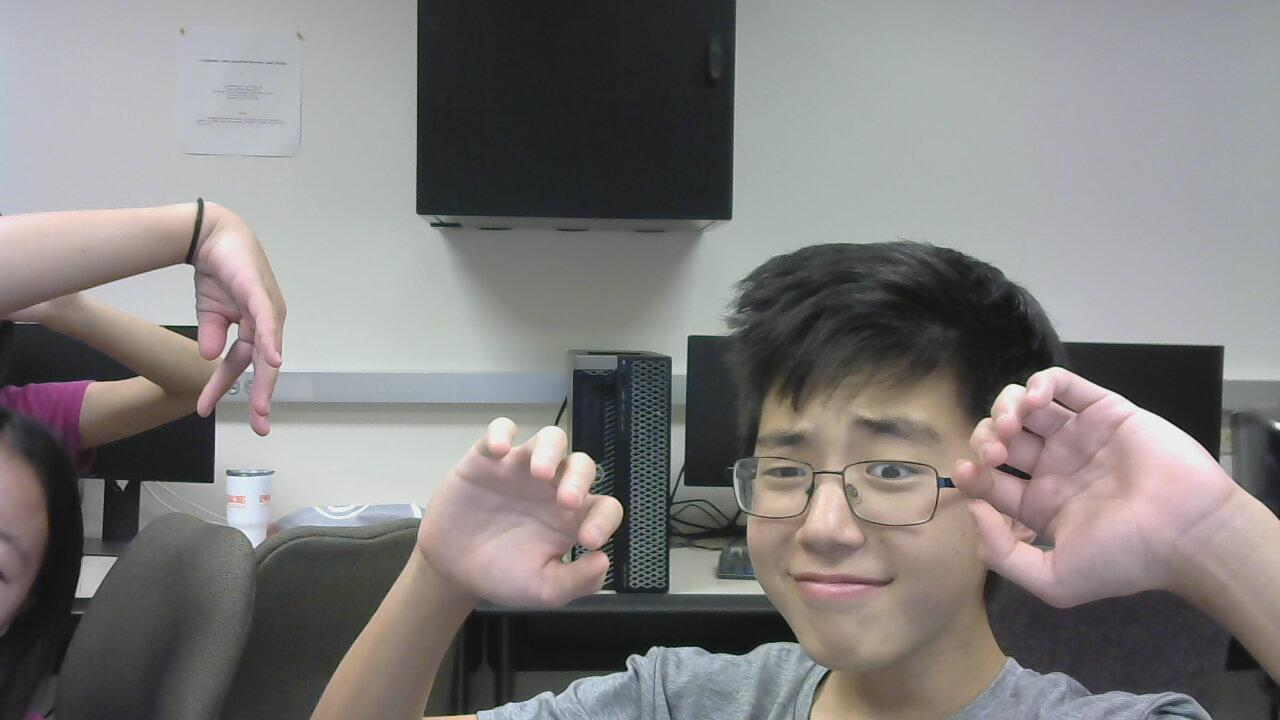hands: (932, 372, 1221, 603), (411, 408, 635, 619), (157, 193, 303, 437)
